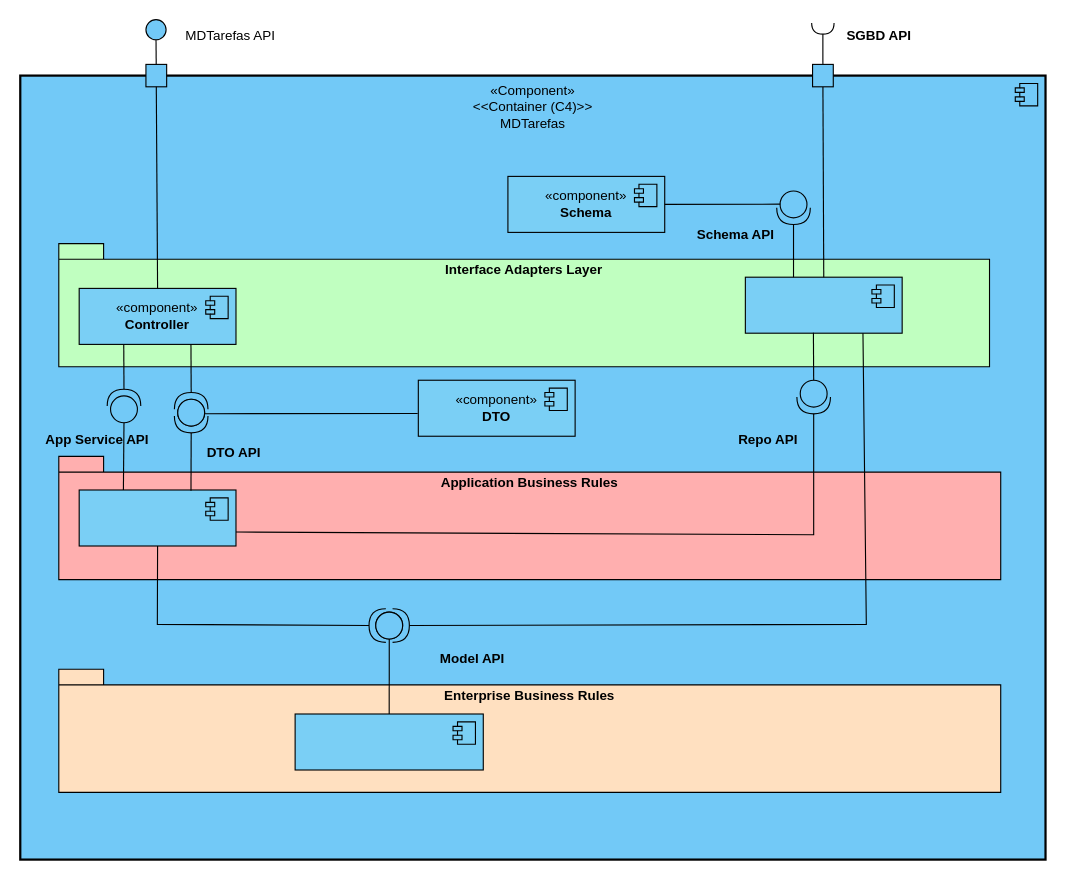
This 1066x880 diagram has some shape labels left out. Each missing label, with the centre of its shape:
"«component» Application Service" goes at [157,517].
"«component» Domain Model (DDD)" goes at [388,741].
"«component» Repository" goes at [823,304].
